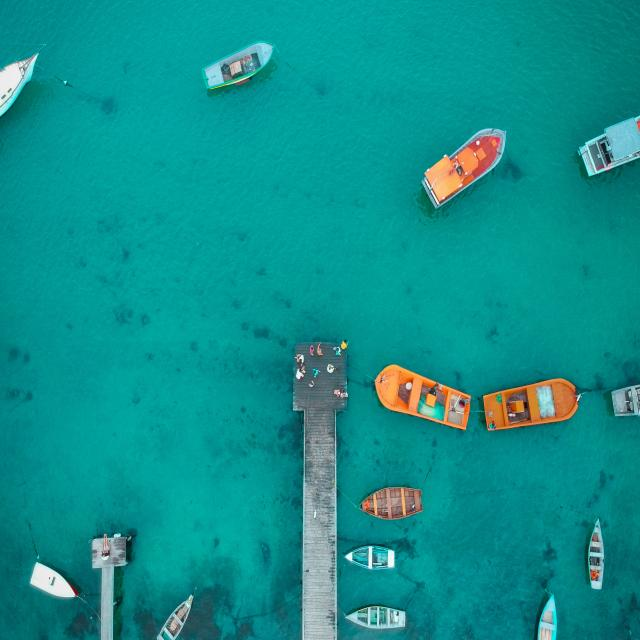ship: (478, 355, 592, 448), (415, 114, 518, 214), (375, 353, 472, 442), (571, 105, 640, 182), (196, 37, 283, 91), (357, 478, 436, 527), (0, 44, 48, 122), (24, 558, 84, 612), (154, 580, 206, 640), (344, 598, 415, 640), (341, 534, 405, 580), (580, 517, 612, 594)
